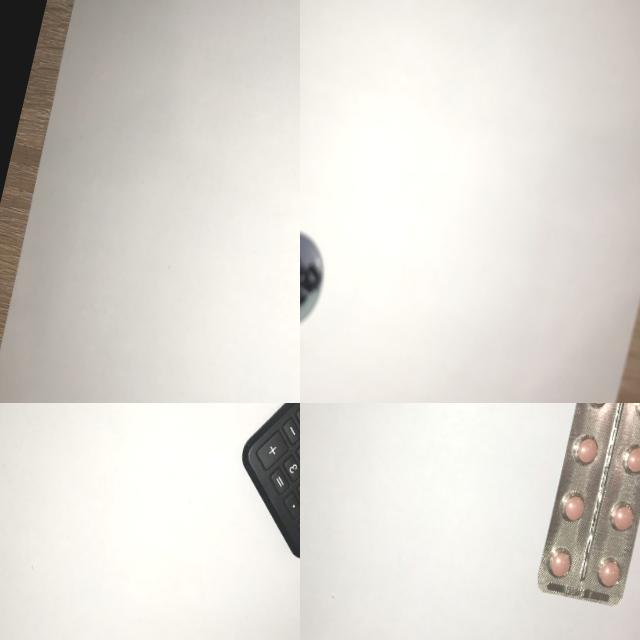calculator: (213, 403, 300, 597)
icon: (300, 218, 337, 344)
tablets: (527, 403, 640, 617)
